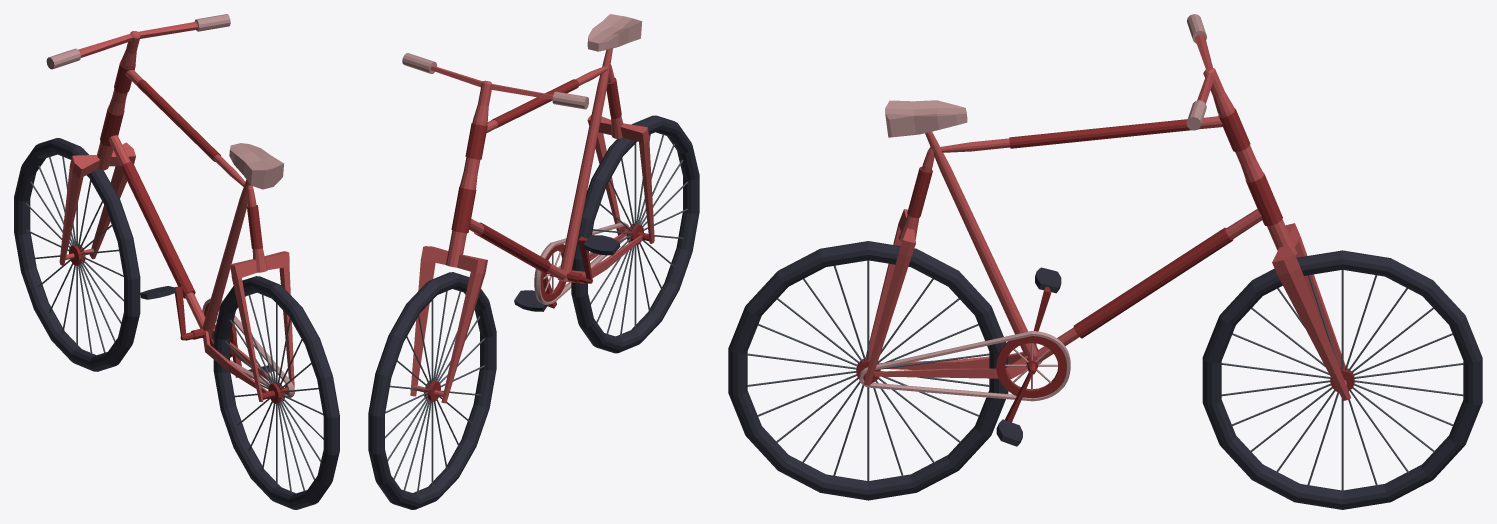
File: bike.glb
3 renders of one model, left to right at view 1: azimuth 30°, elevation 25°; view 2: azimuth 150°, elevation 25°; view 3: azimuth 270°, elevation 25°, orthographic. The views are drawn at different scales.
Visible parts, largest first — view 1: CUPIC_BIKE; view 2: CUPIC_BIKE; view 3: CUPIC_BIKE.
Part boxes in pixels (<box>): CUPIC_BIKE: <box>14,14,339,509</box>; CUPIC_BIKE: <box>368,14,699,509</box>; CUPIC_BIKE: <box>728,14,1482,509</box>.
Size of the model in its own units: 1.04 by 2.06 by 3.18.
1 material, 1 textured.
